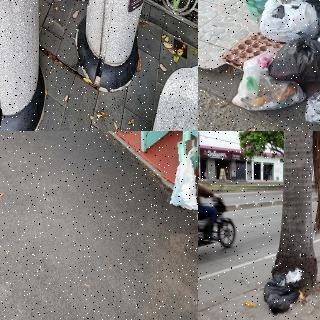Garbage: (230, 51, 307, 110), (159, 139, 198, 217), (258, 263, 313, 316), (256, 0, 319, 42), (271, 34, 320, 79), (247, 0, 306, 15), (303, 87, 320, 127)
